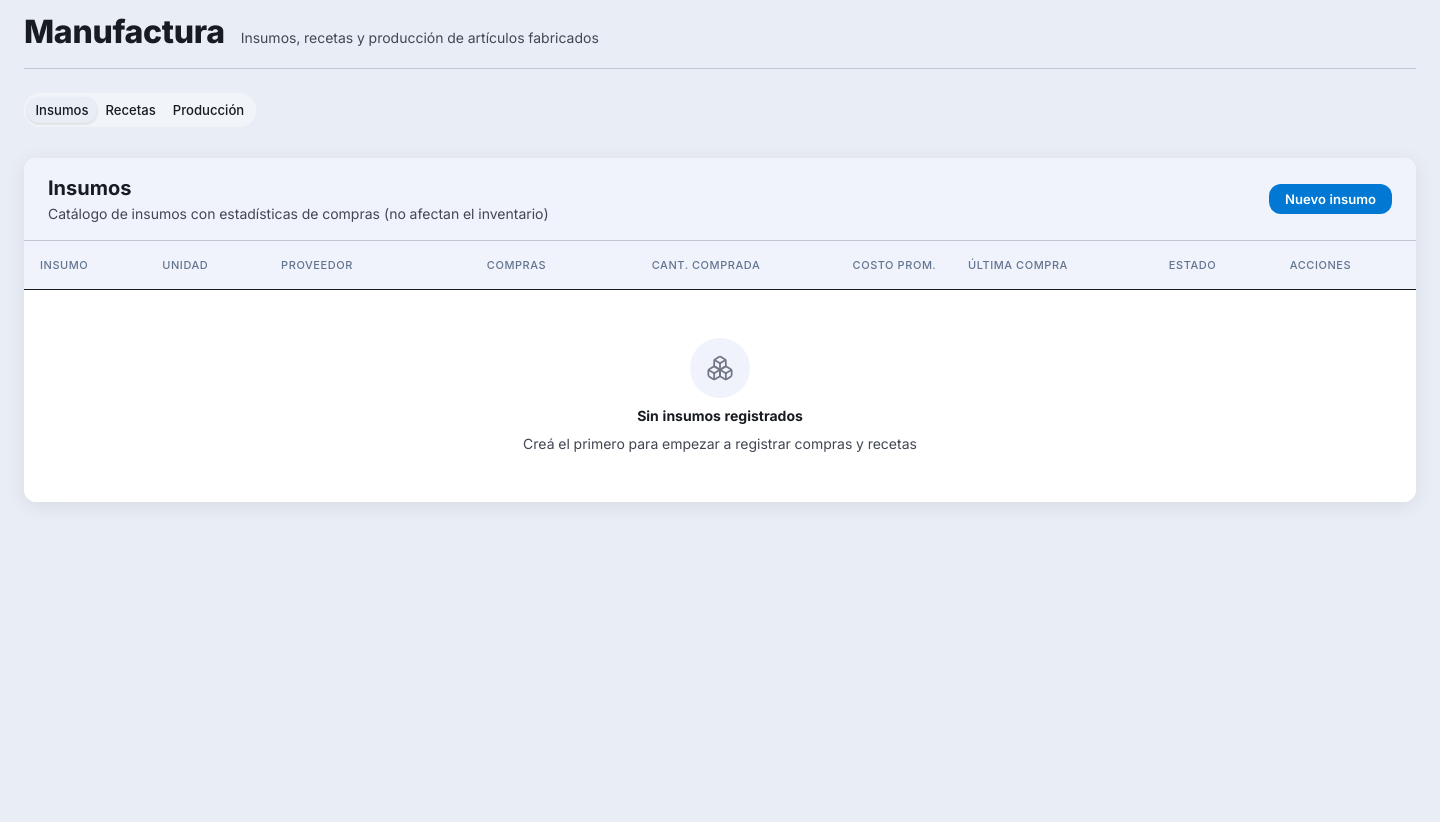
Test: ManufacturingPage — producción con unidades (F6.2) › el resumen fusiona producción y rentabilidad en una sola tabla
Click the tab "Producción".
click(208, 110)  # box left=164, top=96, right=253, bottom=123
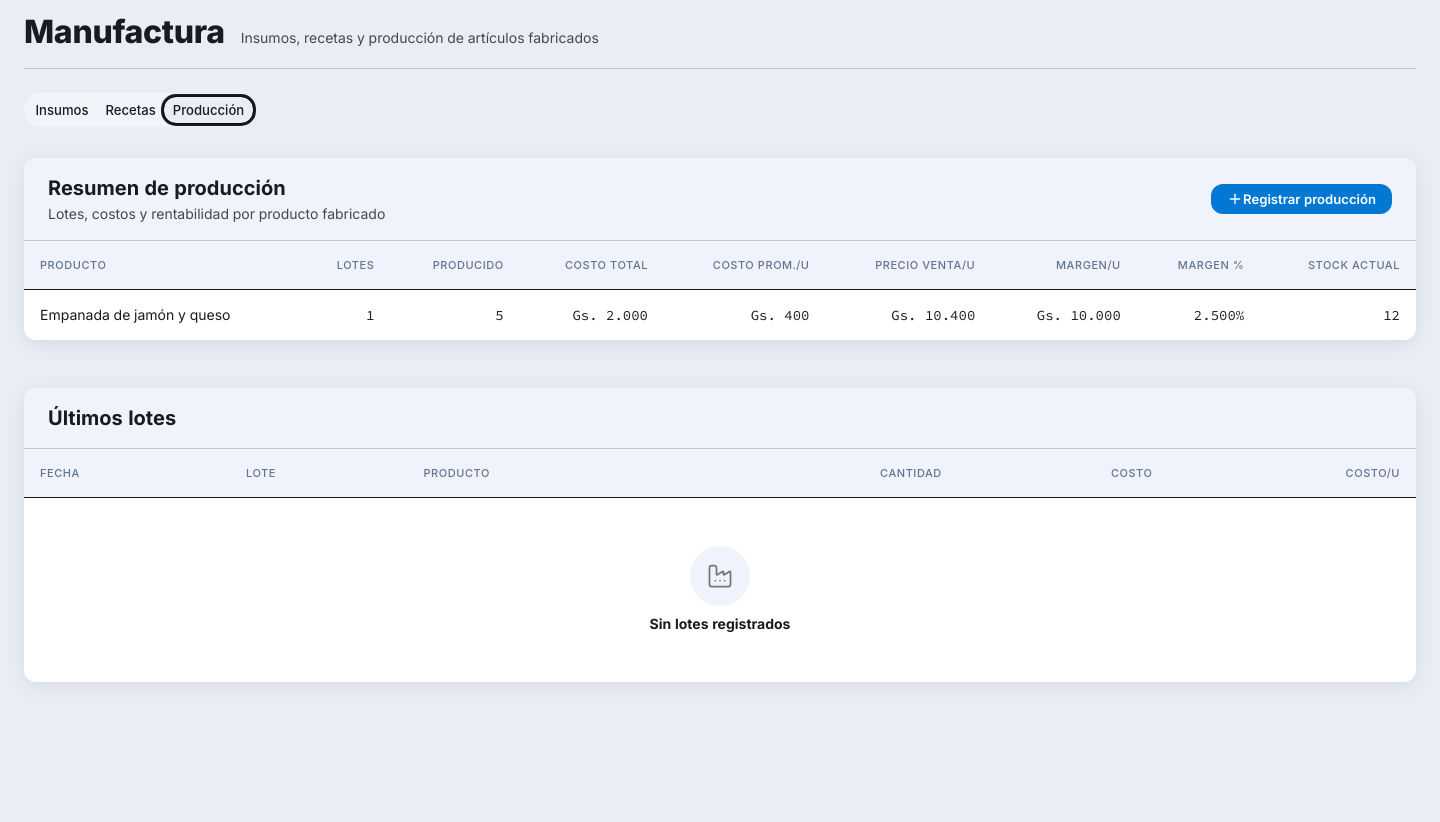
Expected: the text "Empanada de jamón y queso" is shown, left=24, top=290, right=303, bottom=340
Expected: the text "Gs. 10.400" is shown, left=826, top=290, right=991, bottom=340
Expected: the text "Gs. 10.000" is shown, left=991, top=290, right=1137, bottom=340
